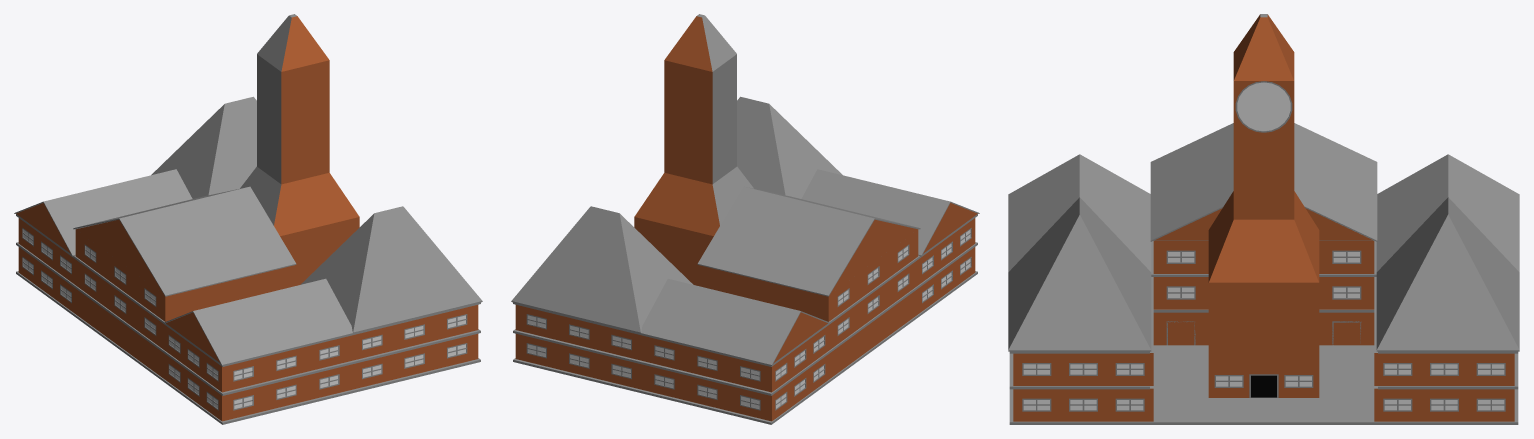
File: School Building.fbx
The picture shows the model from 3 angles, left to right: view 1: azimuth 30°, elevation 25°; view 2: azimuth 150°, elevation 25°; view 3: azimuth 270°, elevation 25°; orthographic projection. The views are drawn at different scales.
Parts seen in each view (by area): view 1: building_001; view 2: building_001; view 3: building_001.
Boxes of the visible parts, <box> form: building_001: <box>14,14,482,424</box>; building_001: <box>511,14,979,424</box>; building_001: <box>1008,14,1519,424</box>.
Bounding box in the file's own units: 2541 × 2715 × 3510.
